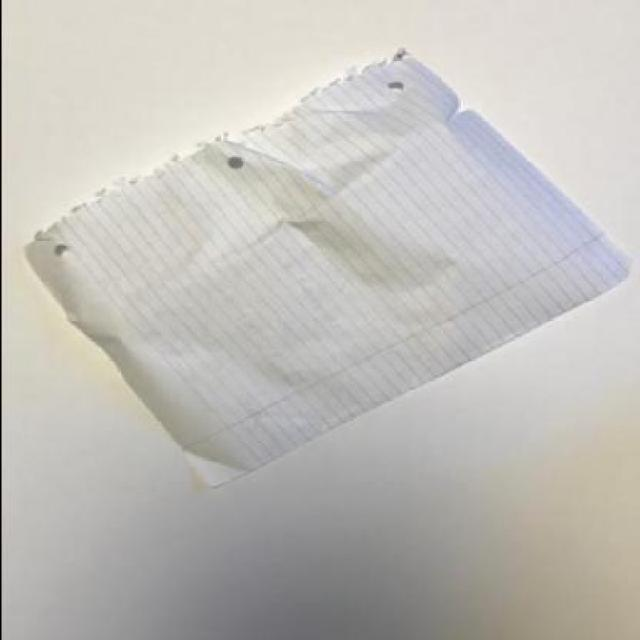PAPER: (21, 48, 634, 486)
